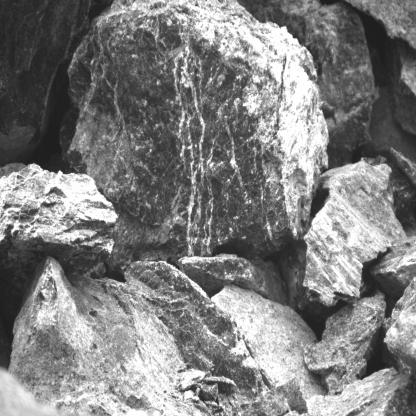stone: (67, 0, 330, 258), (5, 259, 274, 416), (302, 160, 408, 306), (211, 283, 324, 400), (0, 162, 119, 273), (303, 0, 380, 153), (303, 294, 386, 395)
